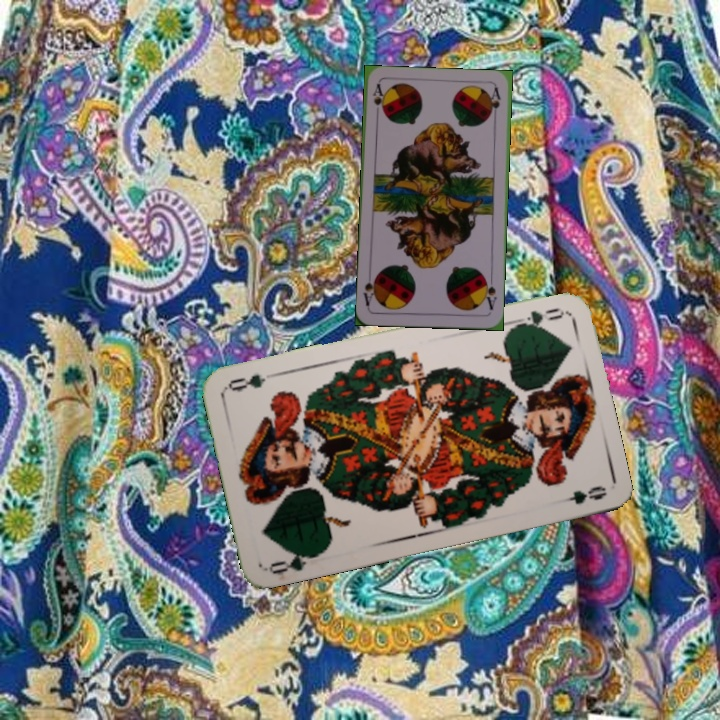GO: (265, 547, 323, 577), (508, 303, 567, 331)
SA: (480, 273, 499, 312), (368, 80, 386, 116)
